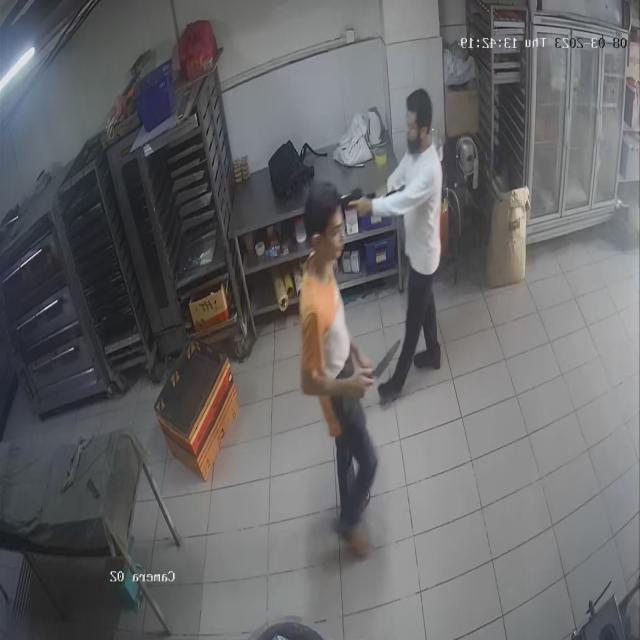Gun: (342, 180, 371, 212)
Knife: (357, 336, 414, 382)
